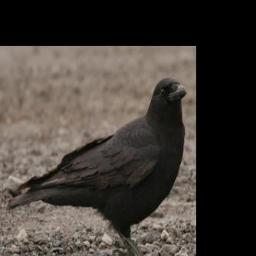Crow: (5, 75, 186, 256)
